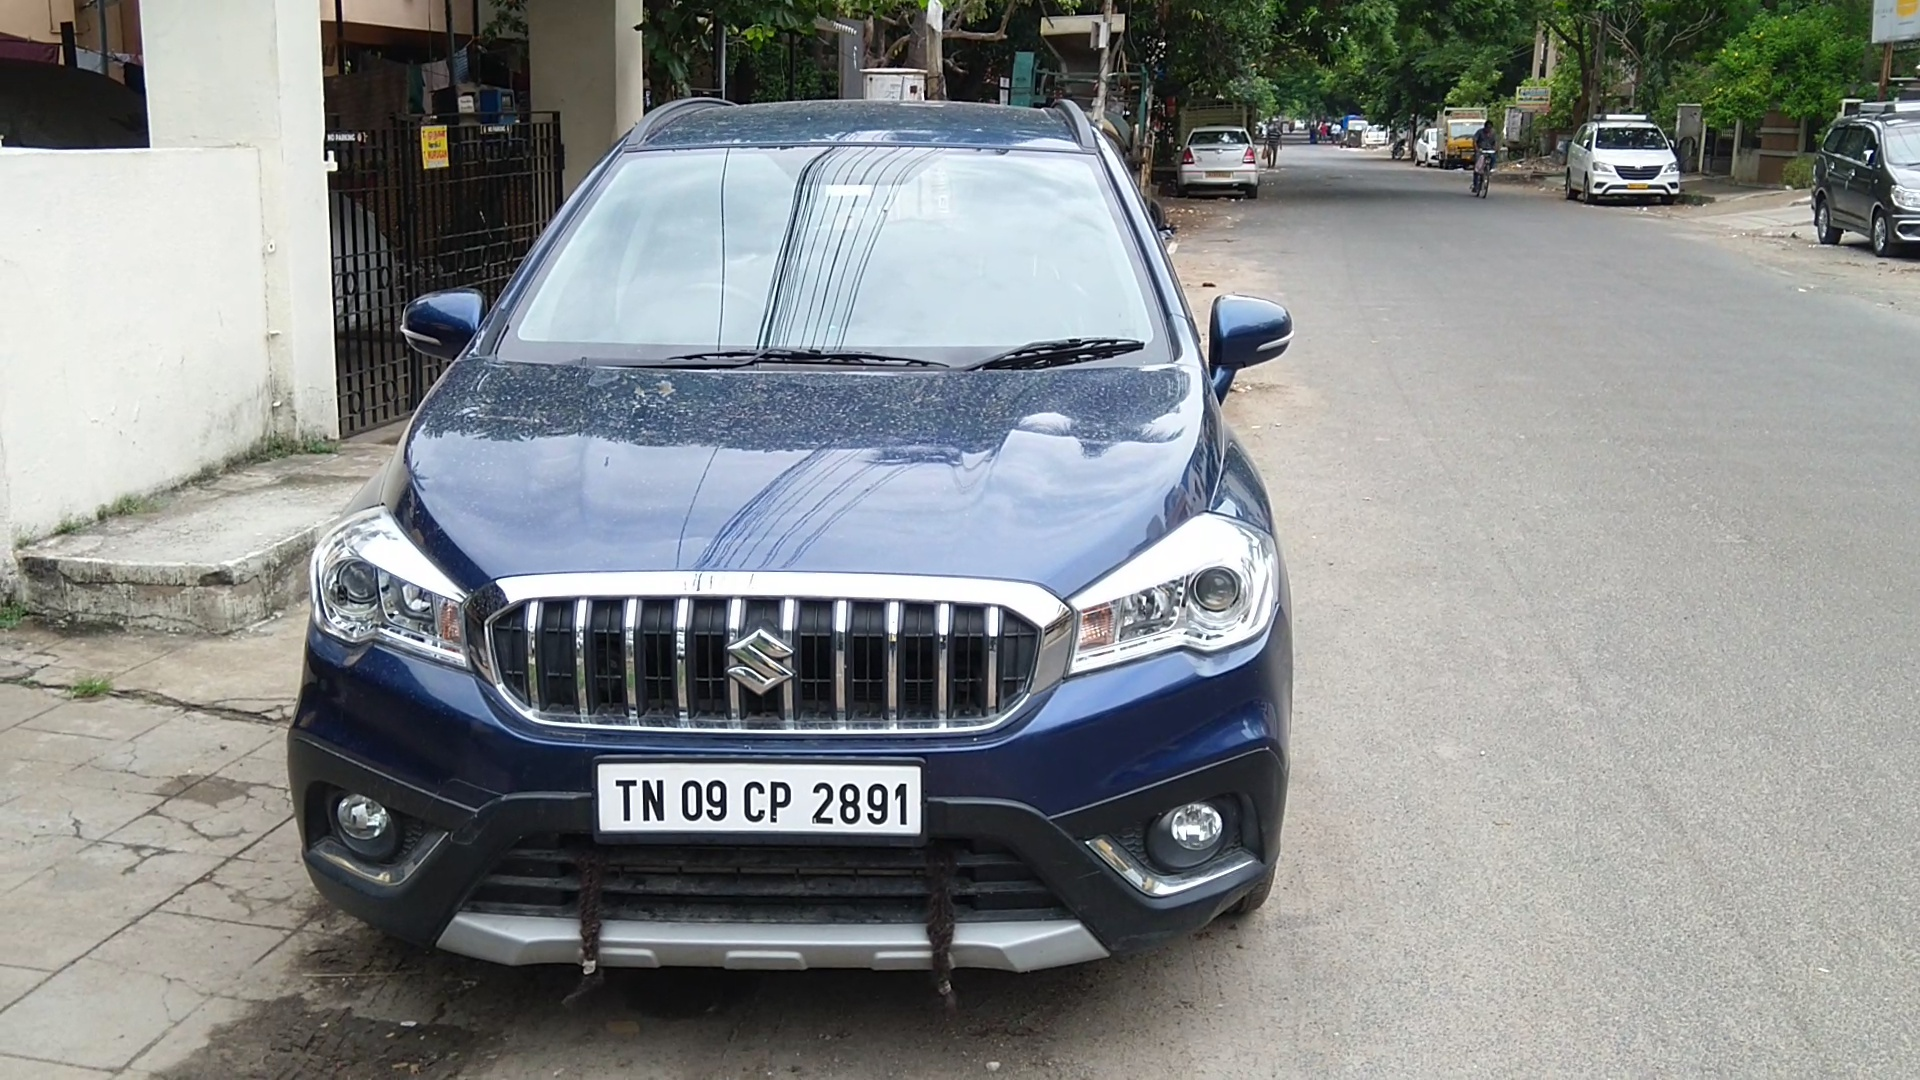front_grill: (468, 571, 1071, 738)
headlamp: (1069, 502, 1278, 676), (305, 501, 468, 671)
ovr_mirror: (1212, 287, 1298, 381), (390, 297, 479, 361)
